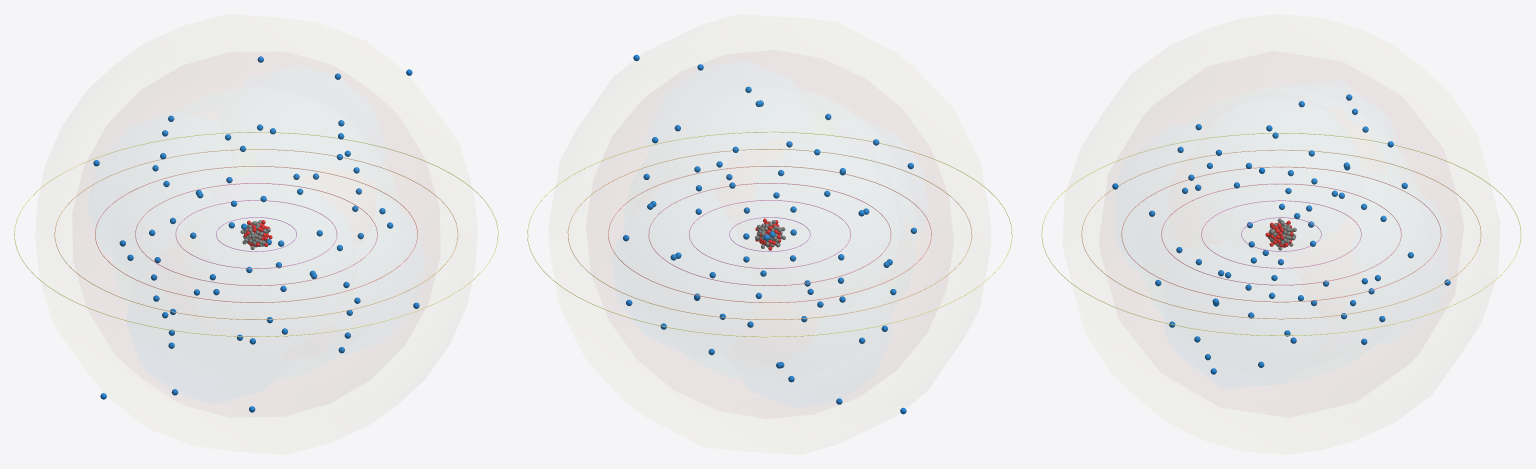
3 views of the same model, side by side, from view 1: azimuth 30°, elevation 25°; view 2: azimuth 150°, elevation 25°; view 3: azimuth 270°, elevation 25° (orthographic).
Parts seen in each view (by area): view 1: Nivel_n6, Nivel_n5, Nivel_n4, Nivel_n3; view 2: Nivel_n6, Nivel_n5, Nivel_n4, Nivel_n3; view 3: Nivel_n6, Nivel_n5, Nivel_n4, Nivel_n3.
Boxes of the visible parts, bbox=[...] form: Nivel_n6: bbox=[14, 132, 498, 336]; Nivel_n5: bbox=[54, 149, 458, 319]; Nivel_n4: bbox=[95, 166, 417, 302]; Nivel_n3: bbox=[135, 183, 377, 285]; Nivel_n6: bbox=[527, 131, 1012, 337]; Nivel_n5: bbox=[567, 149, 972, 319]; Nivel_n4: bbox=[608, 166, 931, 302]; Nivel_n3: bbox=[648, 183, 891, 285]; Nivel_n6: bbox=[1041, 133, 1521, 335]; Nivel_n5: bbox=[1081, 149, 1481, 319]; Nivel_n4: bbox=[1121, 166, 1441, 302]; Nivel_n3: bbox=[1161, 183, 1401, 285].
Bounding box in the file's own units: 1.8 × 1.62 × 1.8.
